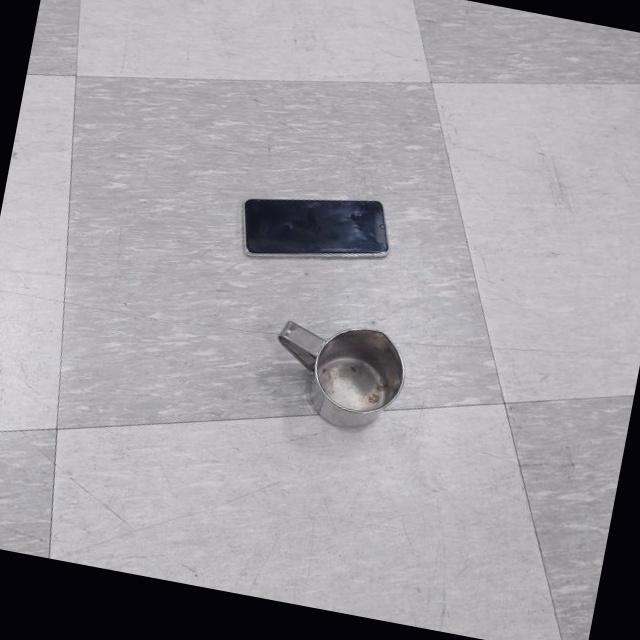cup: (265, 313, 413, 437)
phone: (232, 178, 398, 280)
